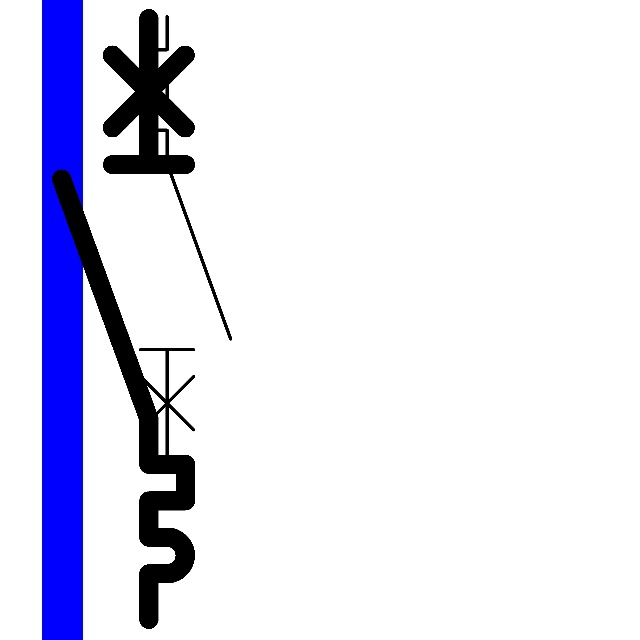interruptor_termomagnetico: (46, 3, 201, 635), (129, 5, 242, 467)
